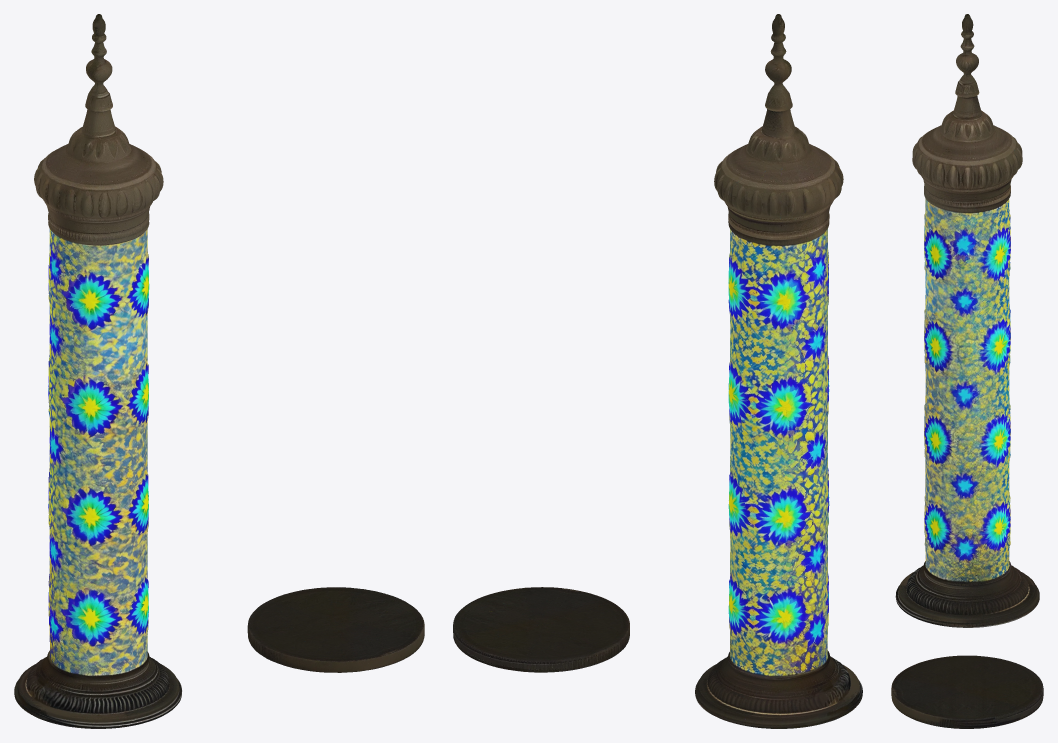
The model's file is luminaria-turca.glb.
The picture shows the model from 3 angles, left to right: view 1: azimuth 30°, elevation 25°; view 2: azimuth 150°, elevation 25°; view 3: azimuth 270°, elevation 25°; orthographic projection. The views are drawn at different scales.
Bounding box in the file's own units: 1.13 × 1.9 × 0.4486.
Materials: 1 (1 with a texture image).
